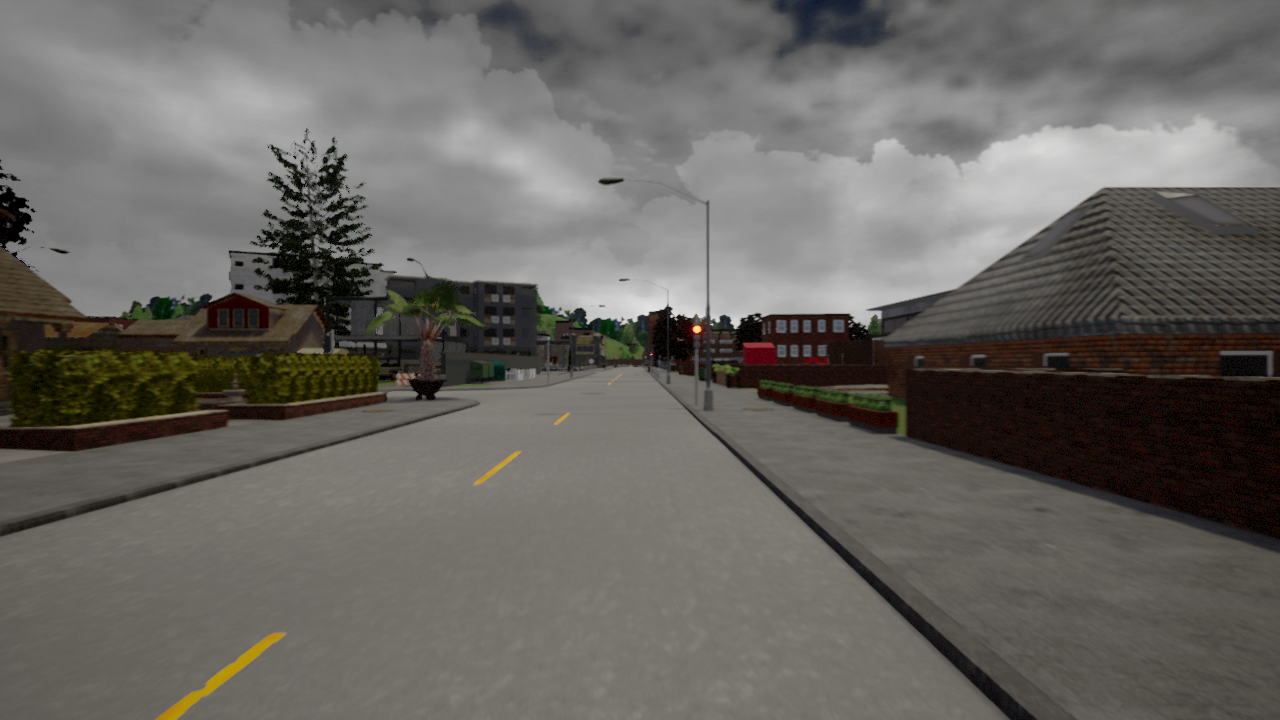red: (692, 325, 702, 350)
